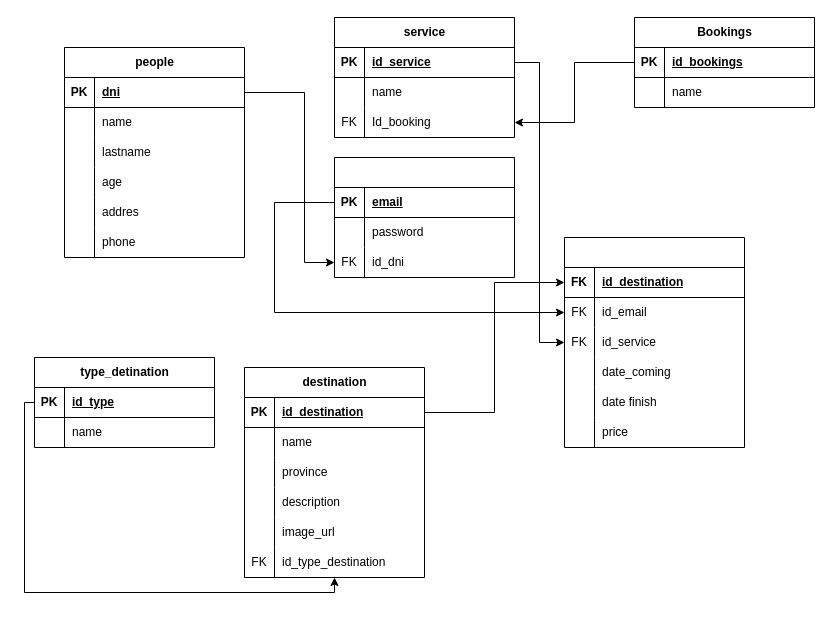
Some shapes in this 832 by 618 pixel diagram are drawn without their labels. The shapes that lost their labels are listed below. From the top down, each one's box as (x1, y1, x2, y2) in pixels, then its label:
(334, 156, 514, 278): Login
(564, 236, 744, 448): travel_log
